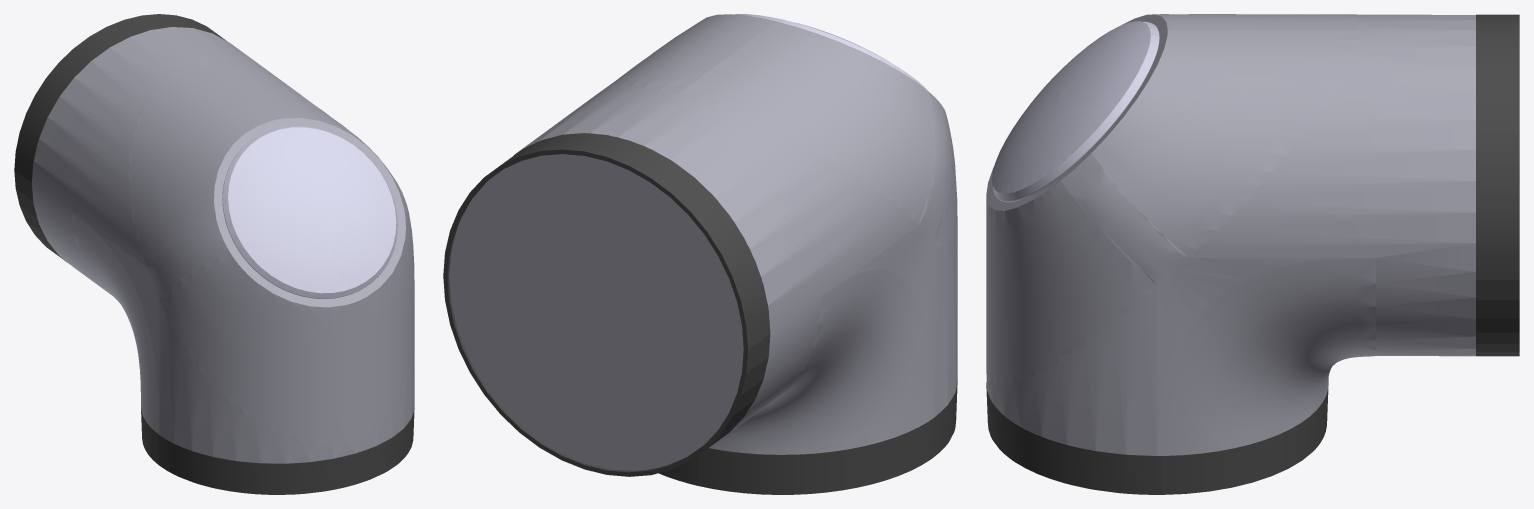
3 views of the same model, side by side, from view 1: azimuth 30°, elevation 25°; view 2: azimuth 150°, elevation 25°; view 3: azimuth 270°, elevation 25° (orthographic). The views are drawn at different scales.
Visible parts, largest first — view 1: mesh; view 2: mesh; view 3: mesh.
Boxes of the visible parts, box(x1,y1,x2,y2) form: mesh: box(14, 14, 414, 494); mesh: box(443, 14, 957, 494); mesh: box(986, 14, 1519, 494).
Bounding box in the file's own units: 0.072 × 0.1122 × 0.0912.
